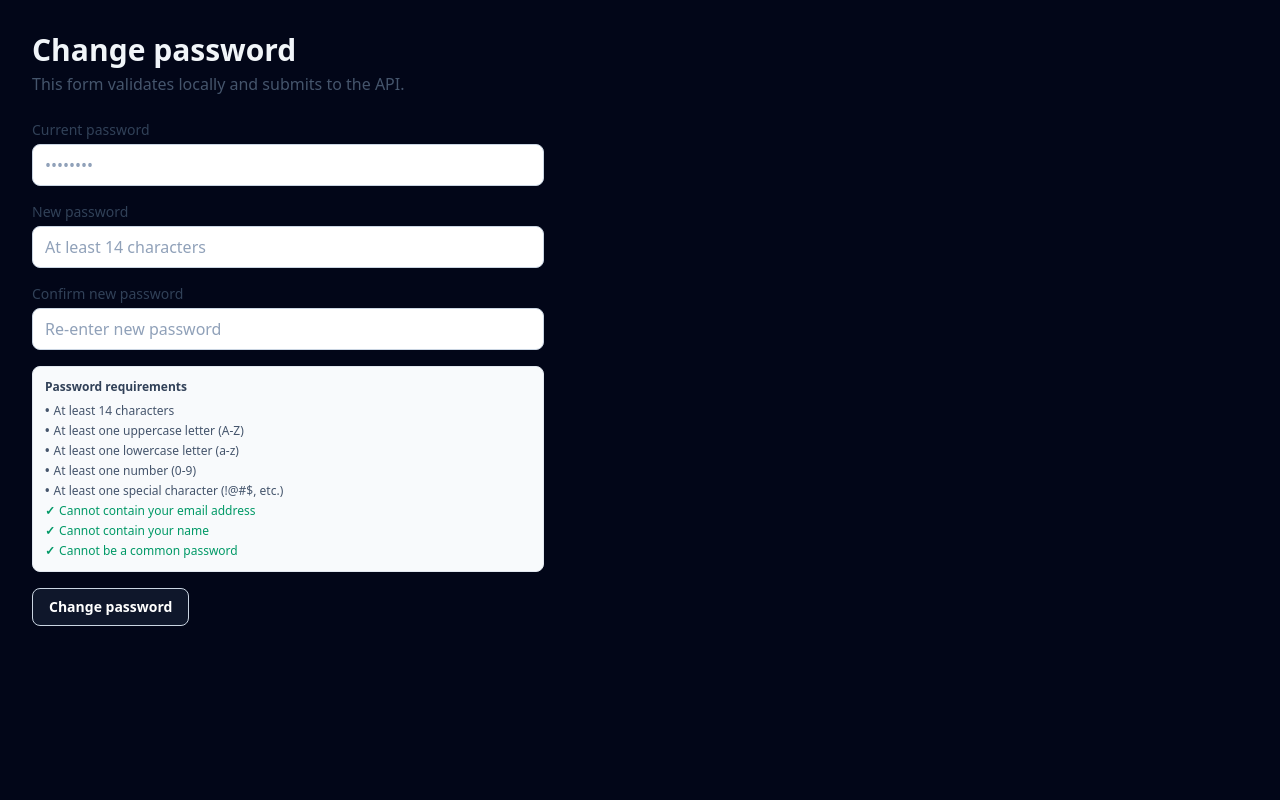
Scenario: ChangePasswordPage › blocks weak passwords client-side
This screenshot has width=1280, height=800.
Type "test_password_123" into the password field labelled "Current password". click: (288, 165)
box: [32,144,544,186]
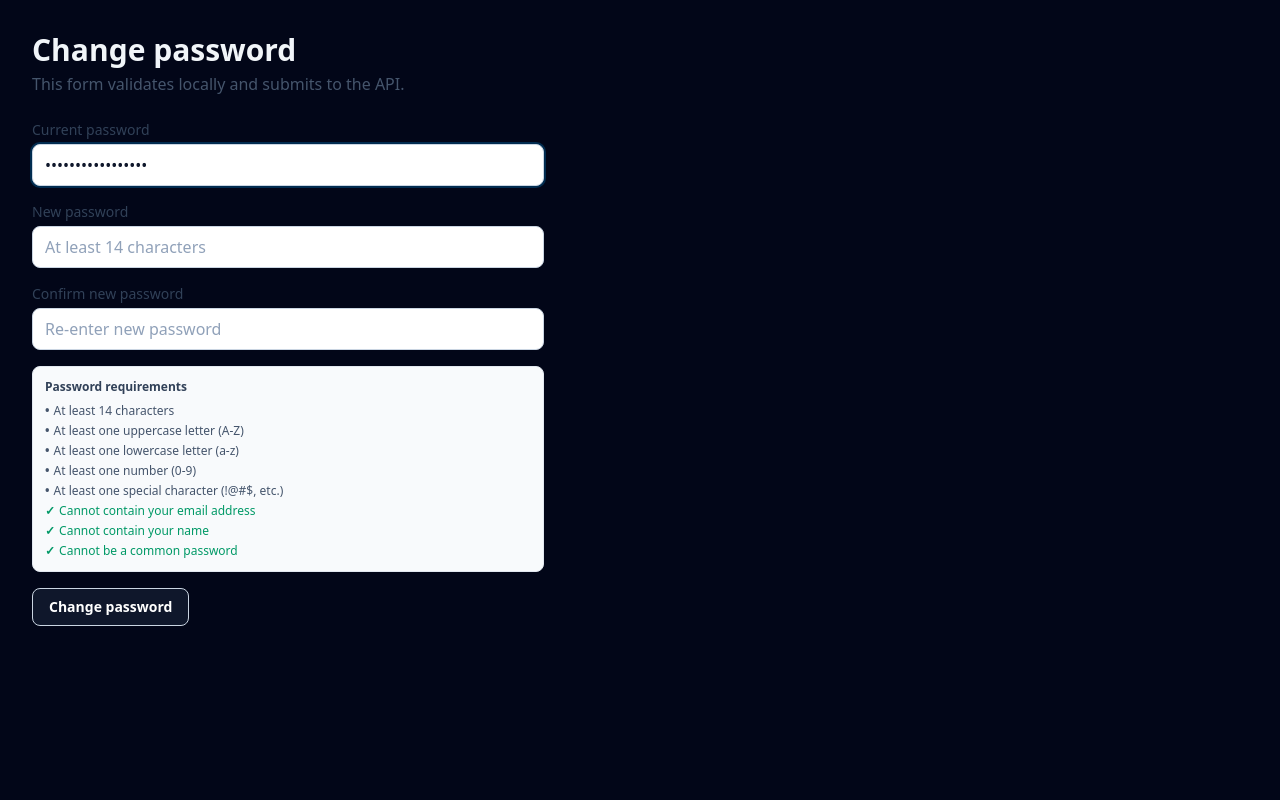
Type "password" into the password field with placeholder "At least 14 characters". click: (288, 247)
box: [32,226,544,268]
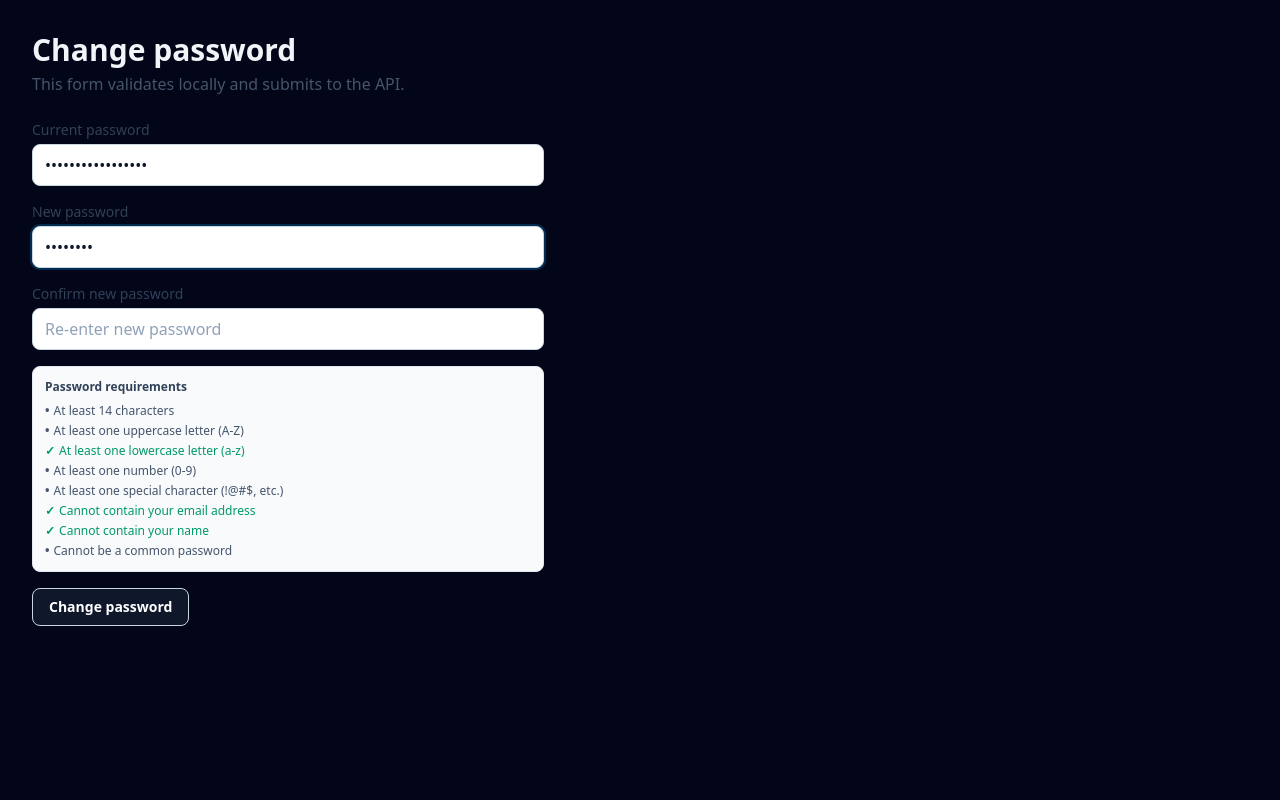
Type "password" into the password field with placeholder "Re-enter new password". click: (288, 329)
box: [32,308,544,350]
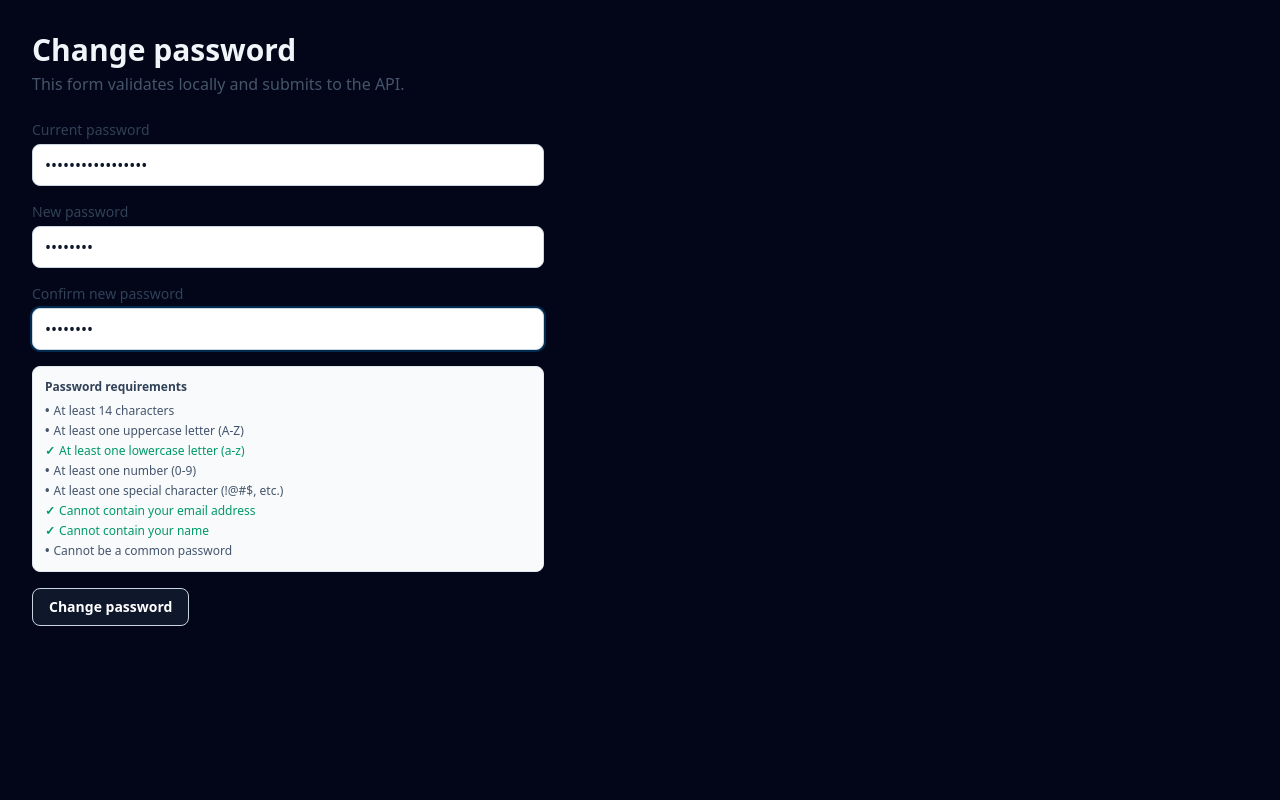
Click the button "Change password". click: click(111, 607)
box: [32,588,189,626]
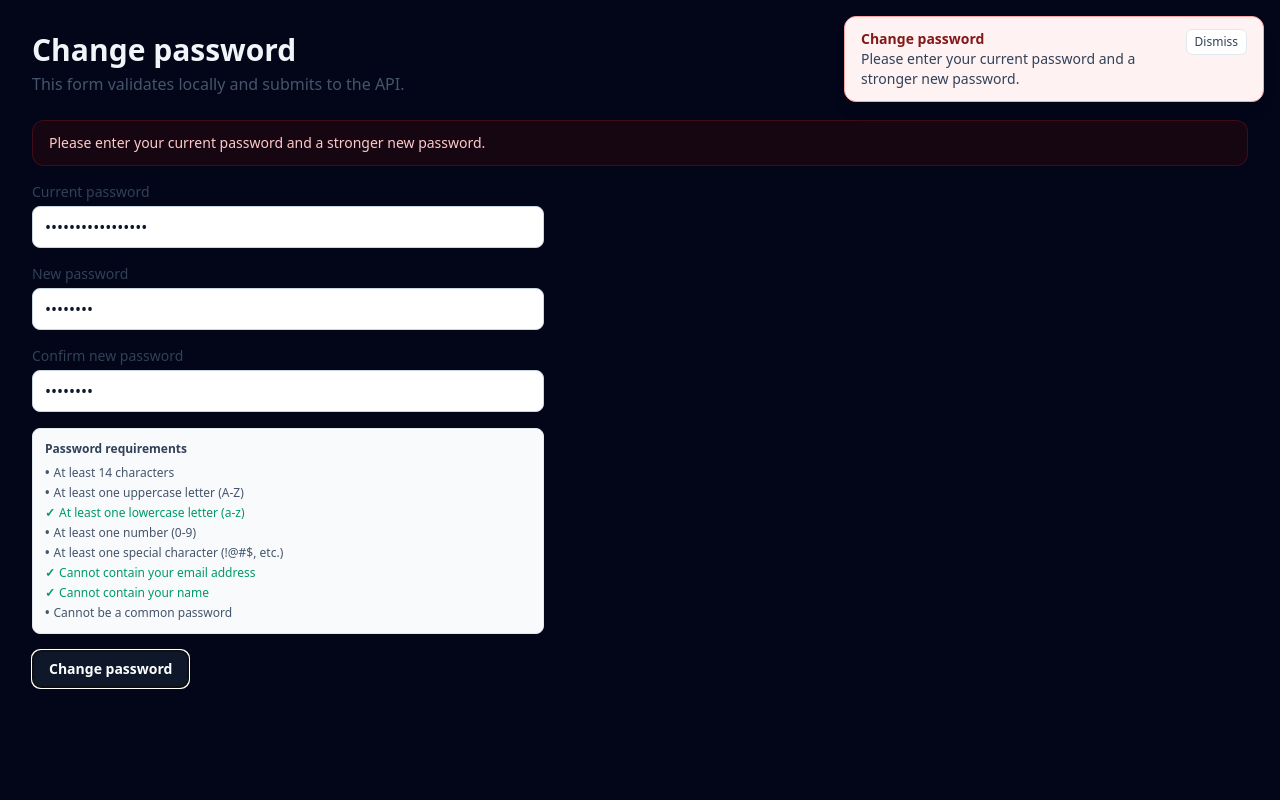
Now the 2nd text "Please enter your current password and a stronger new password." is shown, box [32,120,1248,166]
